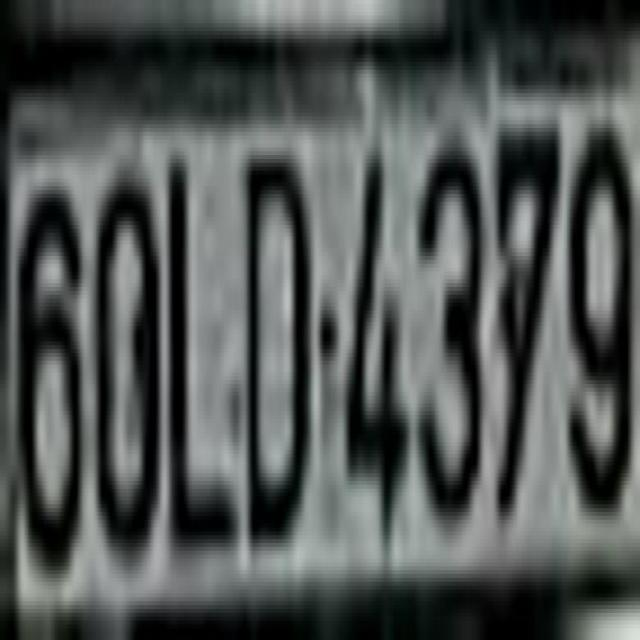0: (93, 159, 161, 566)
3: (415, 136, 482, 539)
4: (344, 159, 413, 555)
6: (16, 178, 85, 586)
7: (494, 109, 560, 528)
9: (564, 109, 632, 512)
D: (244, 144, 307, 543)
L: (166, 143, 241, 554)
